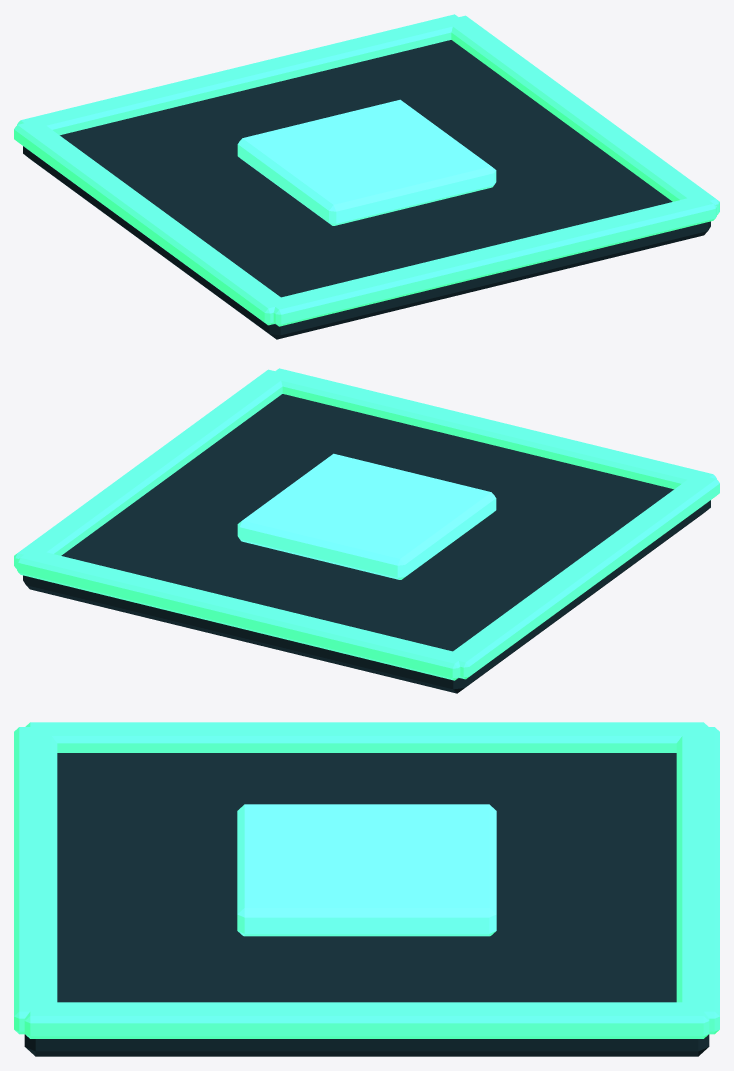
The model's file is pad_green.glb.
3 renders of one model, top to bottom at view 1: azimuth 30°, elevation 25°; view 2: azimuth 150°, elevation 25°; view 3: azimuth 270°, elevation 25°, orthographic. The views are drawn at different scales.
Visible parts, largest first — view 1: pad_green; view 2: pad_green; view 3: pad_green.
Part boxes in pixels (bbox=[...]): pad_green: bbox=[14, 14, 719, 339]; pad_green: bbox=[14, 368, 719, 693]; pad_green: bbox=[14, 722, 719, 1056].
Size of the model in its own units: 1.96 by 0.185 by 1.96.
